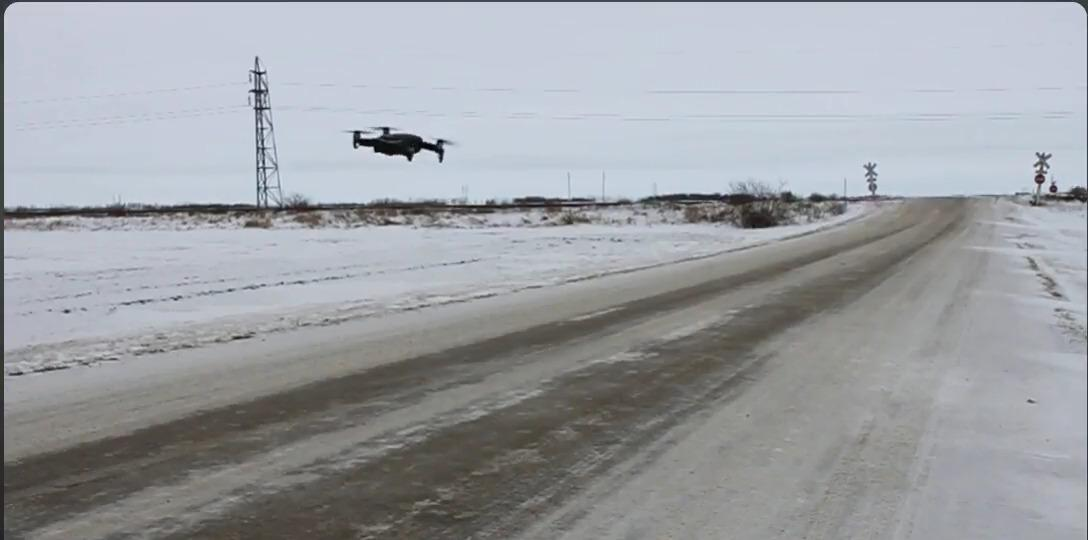dr: (343, 90, 466, 189)
